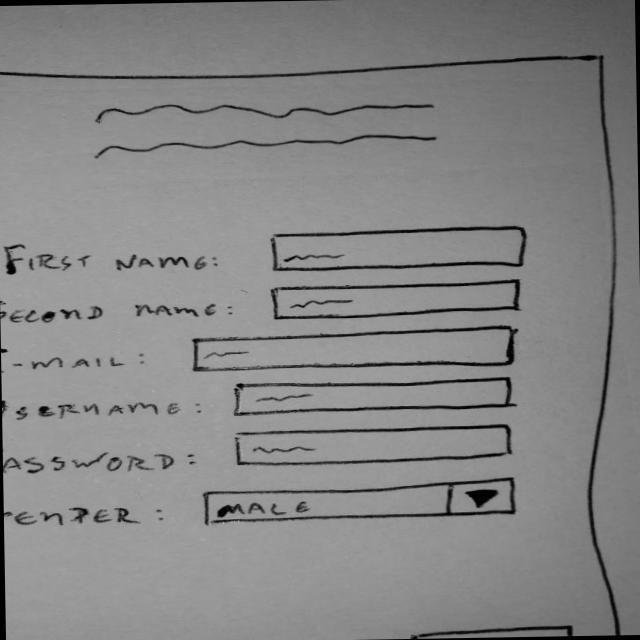button: (396, 622, 592, 640)
container: (1, 48, 640, 640)
input: (181, 323, 535, 376), (262, 223, 555, 276), (226, 373, 522, 422), (226, 423, 530, 470), (269, 280, 545, 321)
label: (1, 230, 234, 286), (1, 288, 244, 328), (3, 436, 212, 482), (3, 389, 217, 431), (4, 488, 176, 538), (2, 336, 164, 384)
select: (198, 474, 524, 534)
text: (63, 90, 465, 132), (65, 129, 467, 167)
